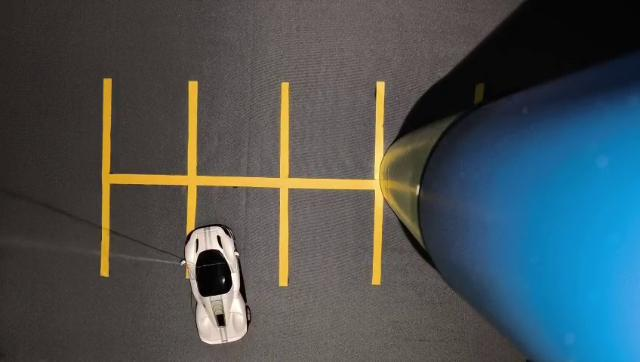toy_car: (173, 221, 271, 349)
